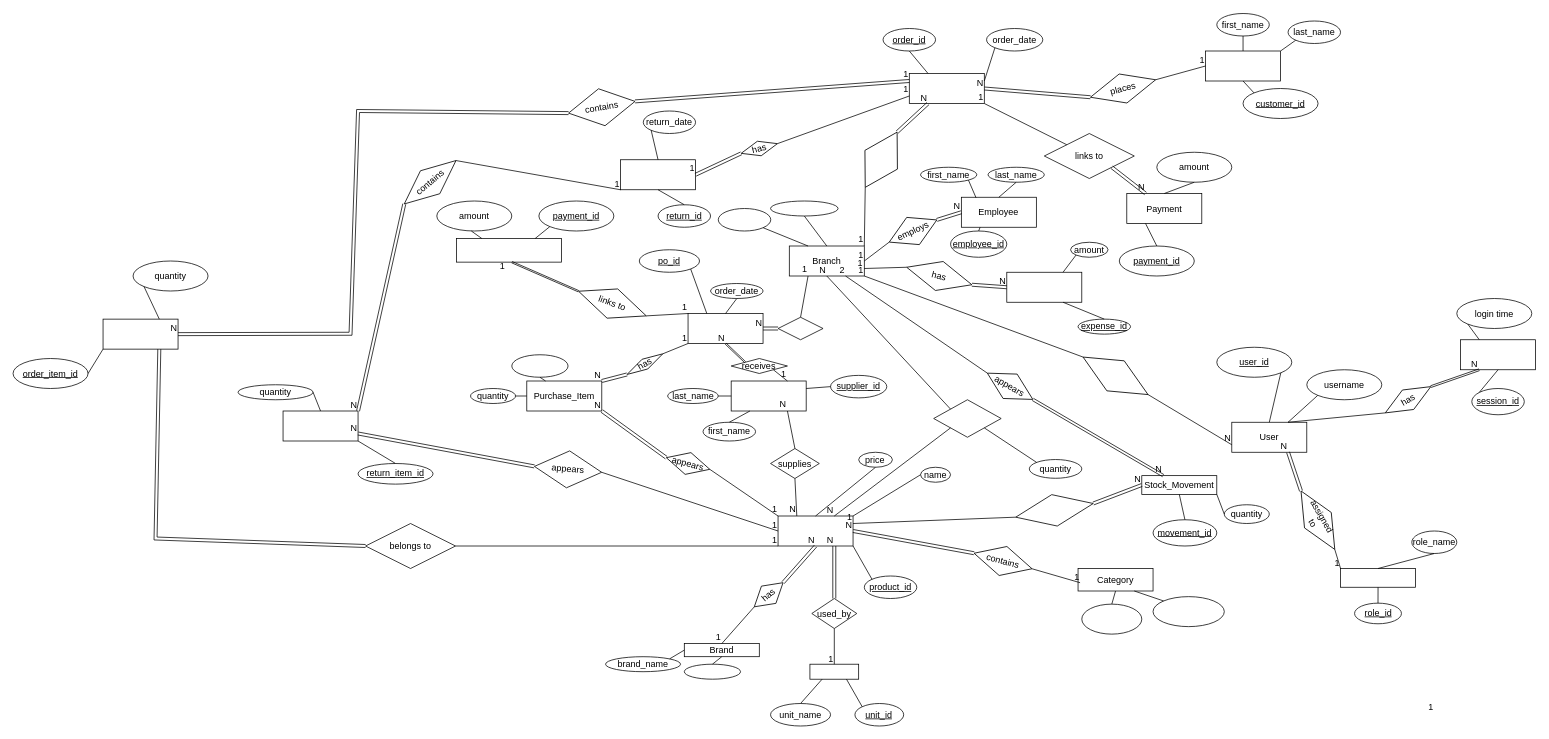
Image size: 1549x739. Some labels were removed from this diagram. Each missing label, with the centre of its shape:
accomodate: point 967,418
appears in: point 1054,510
associates: point 1115,375
branch_id: point 744,219
branch_name: point 804,208
brand_id: point 712,671
category_id: point 1111,618
category_name: point 1188,611
creates: point 800,328
Customer: point 1243,65
Expense: point 1044,287
made at: point 881,159
Order: point 946,88
Order_Item: point 140,333
p_item_id: point 539,365
Product: point 815,530
Purchase_Order: point 725,328
Purchase_payment: point 508,250
Return_Item: point 320,425
Return_orders: point 658,174
Roles: point 1378,577
Supplier: point 768,395
Unit: point 834,671
User_session: point 1498,354
